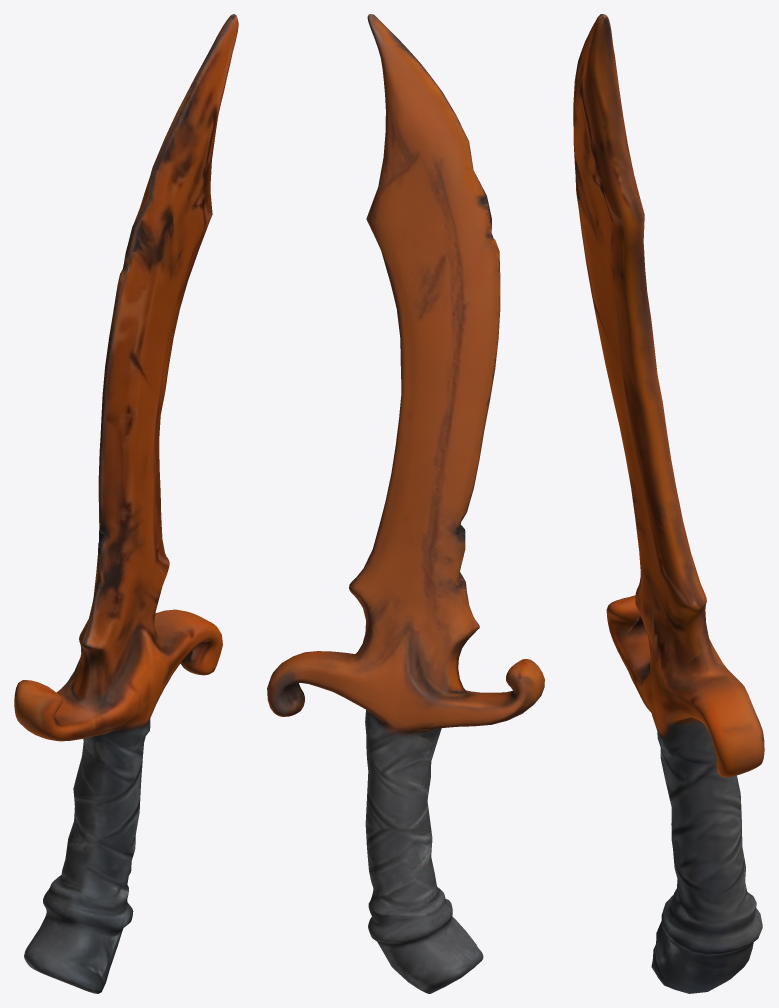
The model's file is igneous_scim.glb.
3 renders of one model, left to right at view 1: azimuth 30°, elevation 25°; view 2: azimuth 150°, elevation 25°; view 3: azimuth 270°, elevation 25°, orthographic. The views are drawn at different scales.
Visible parts, largest first — view 1: igneous_scim_mesh; view 2: igneous_scim_mesh; view 3: igneous_scim_mesh.
Part boxes in pixels (left/top/right/bottom): igneous_scim_mesh: left=14, top=14, right=238, bottom=993; igneous_scim_mesh: left=267, top=14, right=544, bottom=993; igneous_scim_mesh: left=573, top=14, right=764, bottom=993.
Size of the model in its own units: 0.593 by 2.27 by 0.381.
1 material, 1 textured.
